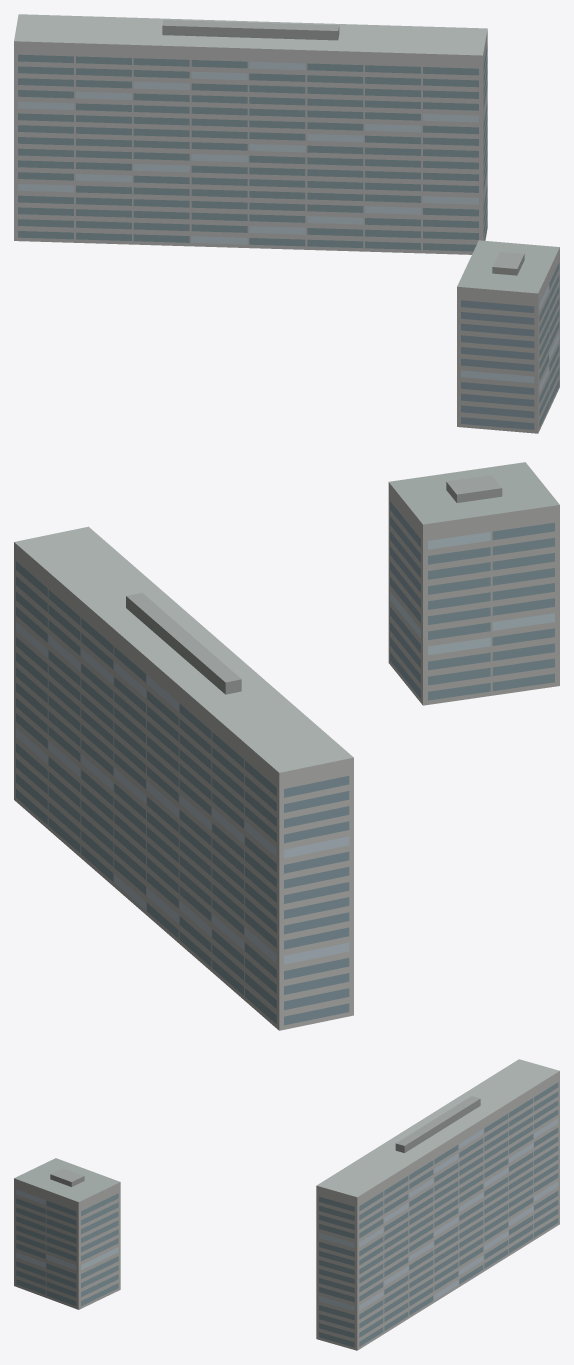
Rendered from apt-a15881701.glb.
The picture shows the model from 3 angles, top to bottom: view 1: azimuth 30°, elevation 25°; view 2: azimuth 150°, elevation 25°; view 3: azimuth 270°, elevation 25°; orthographic projection. The views are drawn at different scales.
Parts seen in each view (by area): view 1: apt-a15881701; view 2: apt-a15881701; view 3: apt-a15881701.
Part boxes in pixels (bbox=[...]): apt-a15881701: bbox=[14, 14, 559, 433]; apt-a15881701: bbox=[14, 462, 559, 1030]; apt-a15881701: bbox=[14, 1059, 559, 1350].
Size of the model in its own units: 86.66 by 47 by 145.
